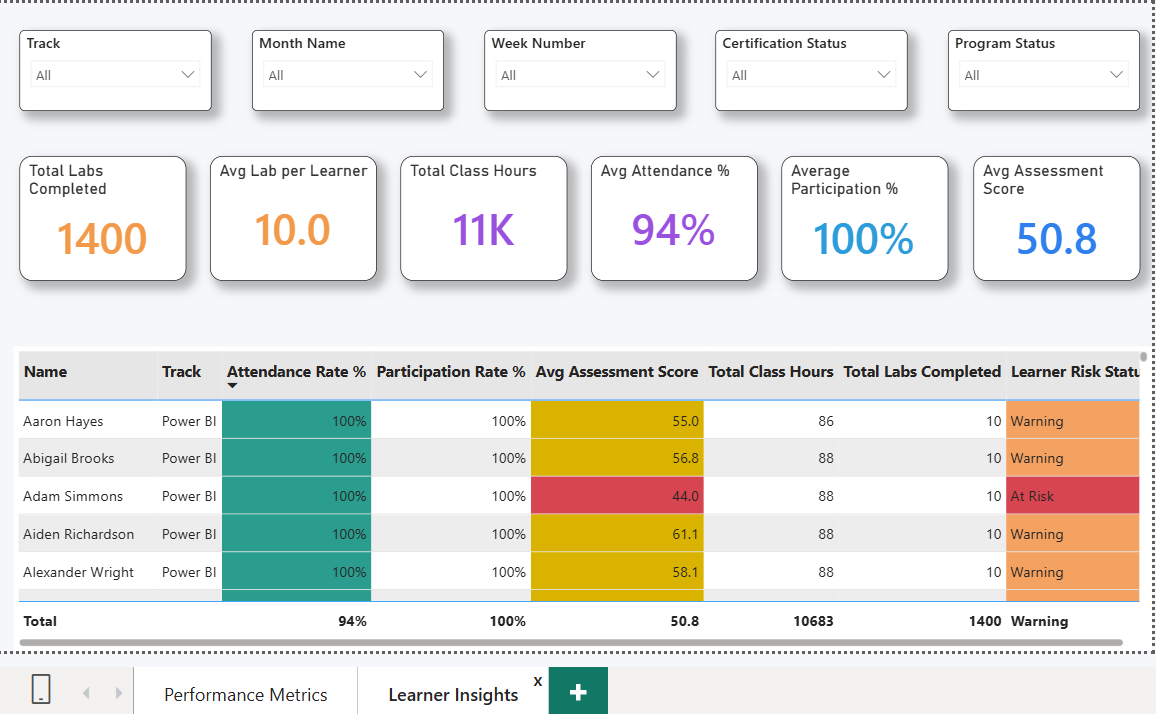

This screenshot's page, from the dashboard's own definition file:
{"tool":"powerbi","page":{"name":"Learner Insights","canvas":[1280,720],"ordinal":1},"visuals":[{"type":"slicer","title":"Track","fields":{"Values":["Dim_Learner.Track"]},"box":[21.7,30,213,90],"z":0},{"type":"slicer","title":"Month Name","fields":{"Values":["Dim_Date.Month Name"]},"box":[279.6,30,213,90],"z":1},{"type":"slicer","title":"Week Number","fields":{"Values":["Dim_Date.Week Number"]},"box":[537.5,30,213,90],"z":2},{"type":"slicer","title":"Certification Status","fields":{"Values":["Dim_Learner.Certification Status"]},"box":[795.4,30,213,90],"z":3},{"type":"slicer","title":"Program Status","fields":{"Values":["Fact_Learner_Status.Program Status"]},"box":[1053.3,30,213,90],"z":4},{"type":"tableEx","fields":{"Values":["Dim_Learner.Name","Dim_Learner.Track","Measure.Attendance Rate %","Measure.Participation Rate %","Measure.Avg Assessment Score","Measure.Total Class Hours","Measure.Total Labs Completed","Dim_Learner.Learner Risk Status"]},"box":[15,381.7,1265,338.3],"z":5},{"type":"card","title":"Total Labs Completed","fields":{"Values":["Measure.Total Labs Completed"]},"box":[21.7,170,185,138.3],"z":6},{"type":"card","title":"Avg Lab per Learner","fields":{"Values":["Measure.Avg Labs per Learner"]},"box":[233.3,170,185,138.3],"z":7},{"type":"card","title":"Total Class Hours","fields":{"Values":["Measure.Total Class Hours"]},"box":[445,170,185,138.3],"z":8},{"type":"card","title":"Avg Attendance %","fields":{"Values":["Measure.Average Attendance %"]},"box":[656.7,170,185,138.3],"z":9},{"type":"card","title":"Average Participation %","fields":{"Values":["Measure.Avg Participation %"]},"box":[868.3,170,185,138.3],"z":10},{"type":"card","title":"Avg Assessment Score","fields":{"Values":["Measure.Avg Assessment Score"]},"box":[1081.7,170,185,138.3],"z":11}]}

Visuals, with their boxes in screenshot pixels (x1, y1, x2, y2):
"Track" slicer: rect(25, 30, 215, 110)
"Month Name" slicer: rect(255, 30, 445, 110)
"Week Number" slicer: rect(485, 30, 674, 110)
"Certification Status" slicer: rect(714, 30, 904, 110)
"Program Status" slicer: rect(944, 30, 1134, 110)
tableEx - Dim_Learner.Name x Dim_Learner.Track: rect(19, 343, 1146, 644)
"Total Labs Completed" card: rect(25, 154, 190, 278)
"Avg Lab per Learner" card: rect(214, 154, 379, 278)
"Total Class Hours" card: rect(402, 154, 567, 278)
"Avg Attendance %" card: rect(591, 154, 756, 278)
"Average Participation %" card: rect(779, 154, 944, 278)
"Avg Assessment Score" card: rect(969, 154, 1134, 278)
